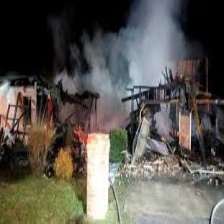smoke: (105, 1, 179, 79)
